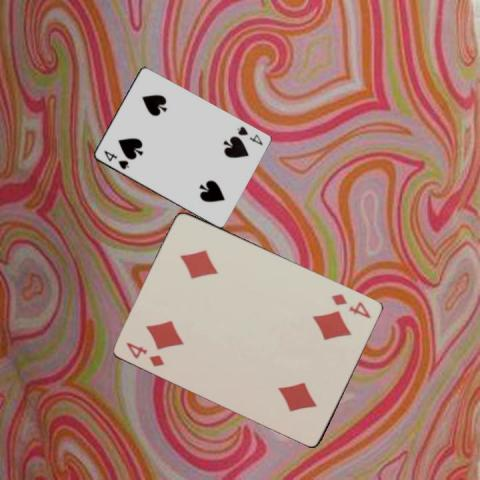4d: (123, 338, 166, 368), (329, 291, 372, 320)
4s: (233, 123, 264, 147), (100, 147, 130, 171)
